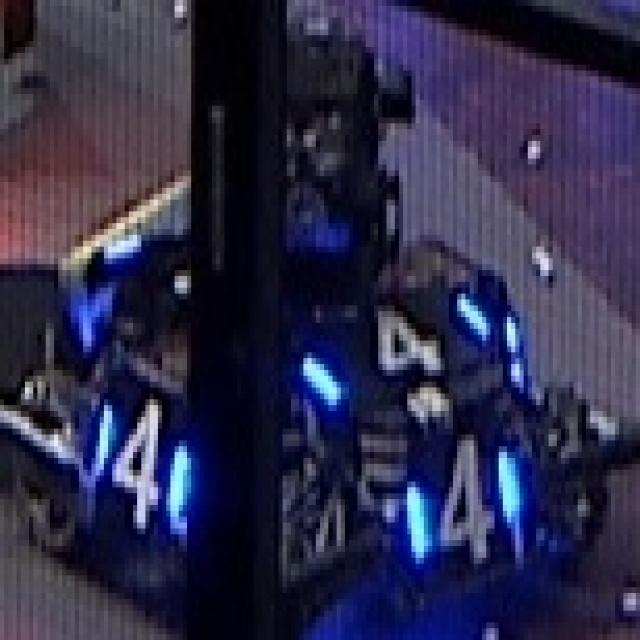B4: (295, 267, 482, 408), (85, 388, 185, 534), (401, 446, 530, 558)
